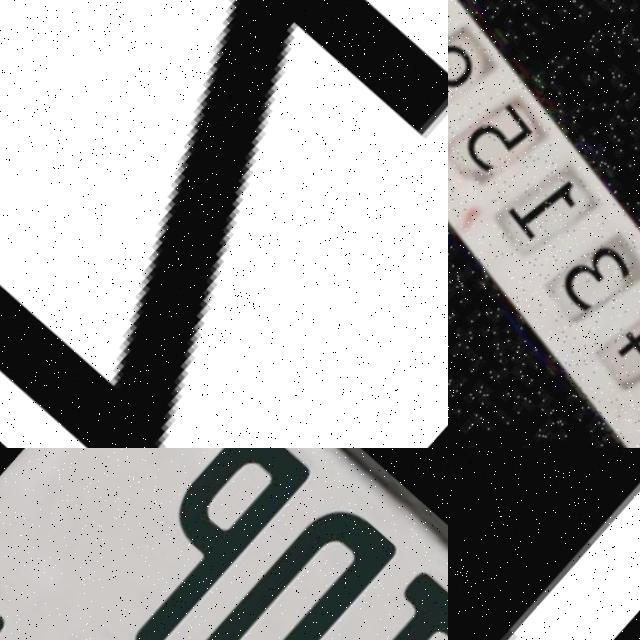1: (495, 143, 614, 266)
3: (541, 209, 640, 337)
4: (600, 280, 640, 398)
5: (448, 75, 564, 200)
9: (448, 9, 507, 132)
D: (171, 477, 408, 640)
P: (82, 448, 321, 640), (448, 448, 640, 640)
T: (260, 551, 448, 640)
Z: (0, 0, 448, 448)
